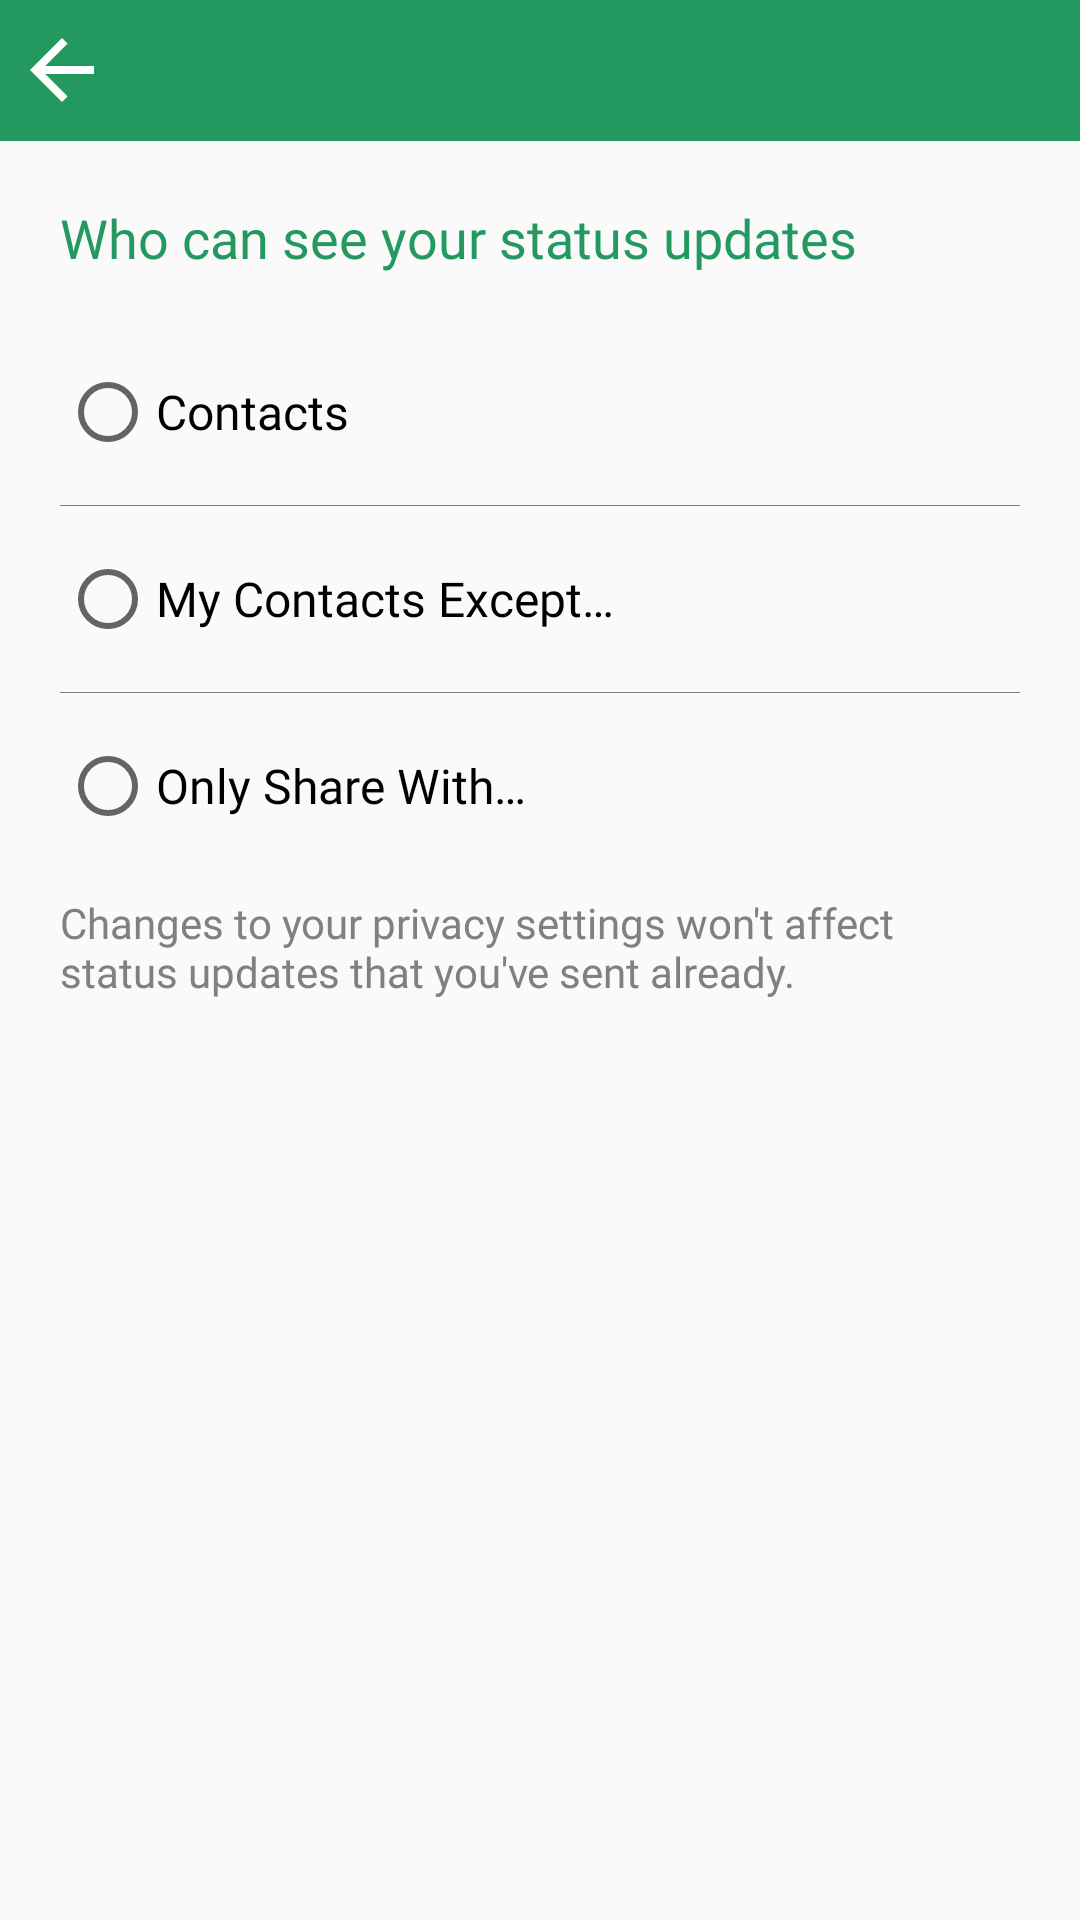

Screen size 1080px×1920px. Icon name, then its center in pixels as (x,y):
back arrow: (62,70)
